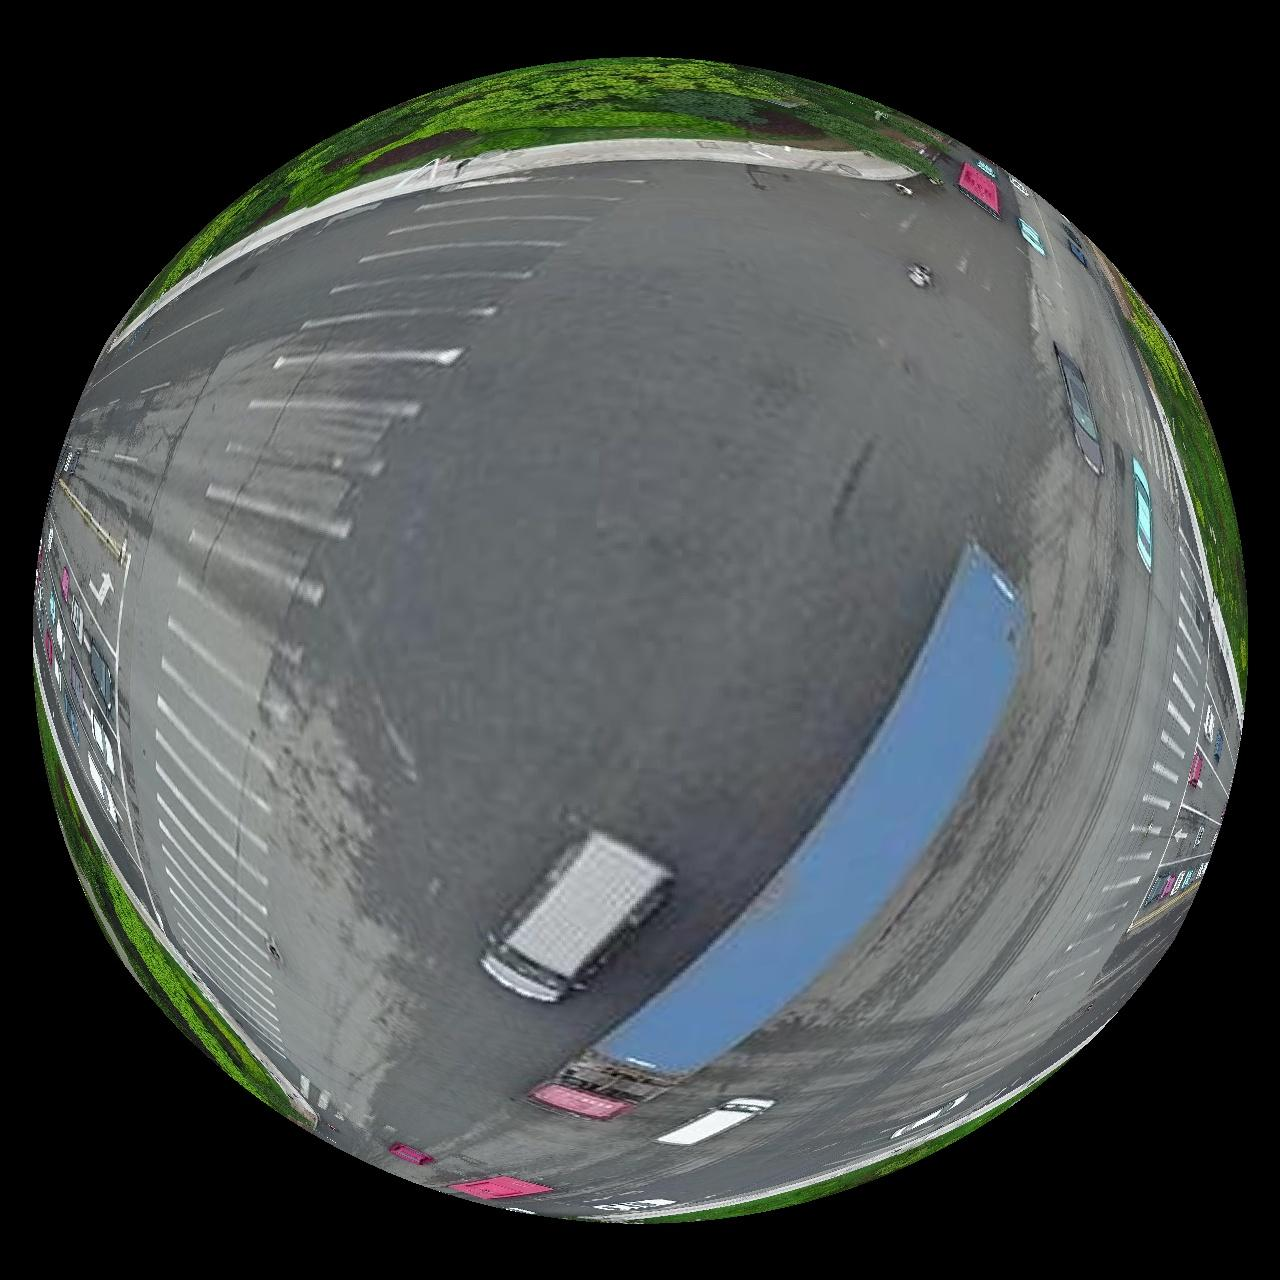cars: (536, 545, 1029, 1121), (481, 831, 674, 1005), (1057, 343, 1105, 474), (659, 1099, 776, 1148), (449, 1178, 553, 1203), (1136, 457, 1157, 571), (87, 641, 114, 715), (1020, 215, 1050, 257), (388, 1145, 434, 1169)
trees: (132, 56, 948, 311), (35, 687, 316, 1130), (1098, 248, 1251, 697)
